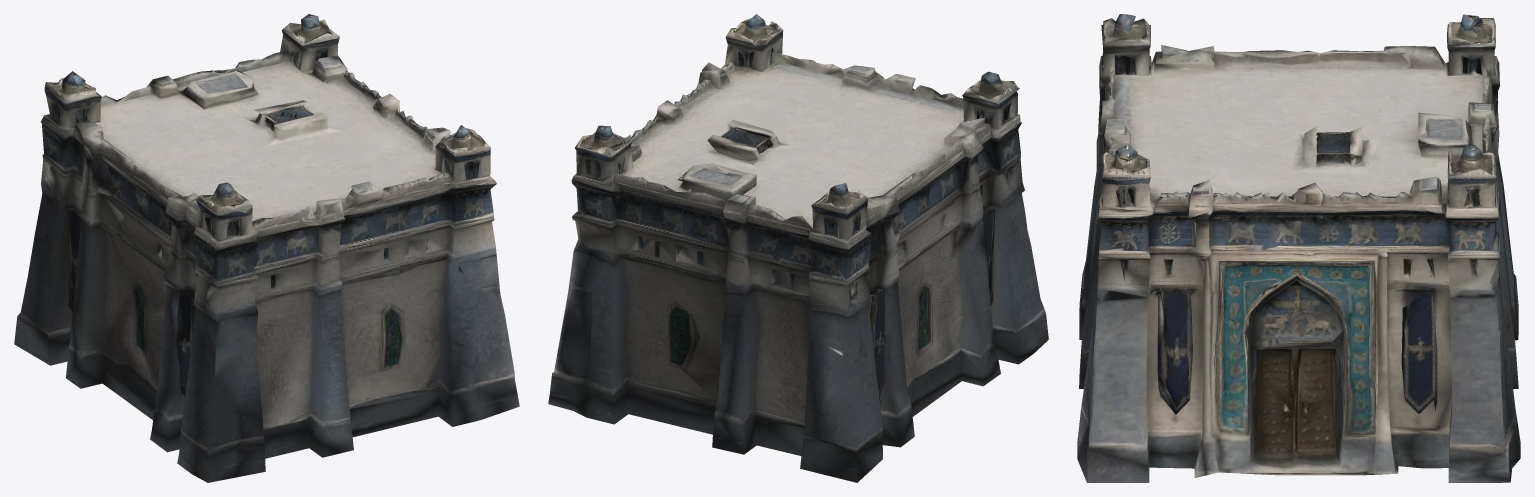
Rendered from treasury_1.glb.
3 renders of one model, left to right at view 1: azimuth 30°, elevation 25°; view 2: azimuth 150°, elevation 25°; view 3: azimuth 270°, elevation 25°, orthographic. The views are drawn at different scales.
Parts seen in each view (by area): view 1: tripo_node_32eac132-6e69-40f8-9feb-b798d6eb7d5a; view 2: tripo_node_32eac132-6e69-40f8-9feb-b798d6eb7d5a; view 3: tripo_node_32eac132-6e69-40f8-9feb-b798d6eb7d5a.
Boxes of the visible parts, x1,y1,x2,y2 form: tripo_node_32eac132-6e69-40f8-9feb-b798d6eb7d5a: (14,14,519,482); tripo_node_32eac132-6e69-40f8-9feb-b798d6eb7d5a: (548,14,1048,482); tripo_node_32eac132-6e69-40f8-9feb-b798d6eb7d5a: (1077,14,1520,482).
Size of the model in its own units: 0.9148 by 0.7767 by 0.9798.
1 material, 1 textured.
